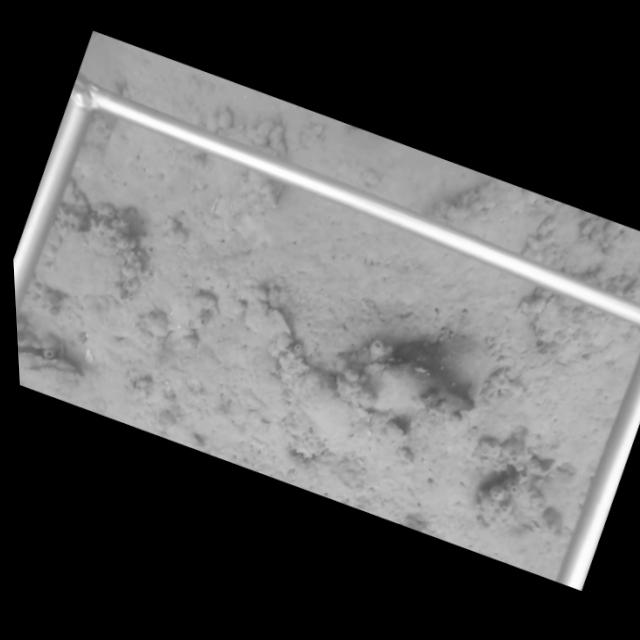Oyster-Indeterminate: (277, 363, 375, 460), (44, 225, 127, 302)
